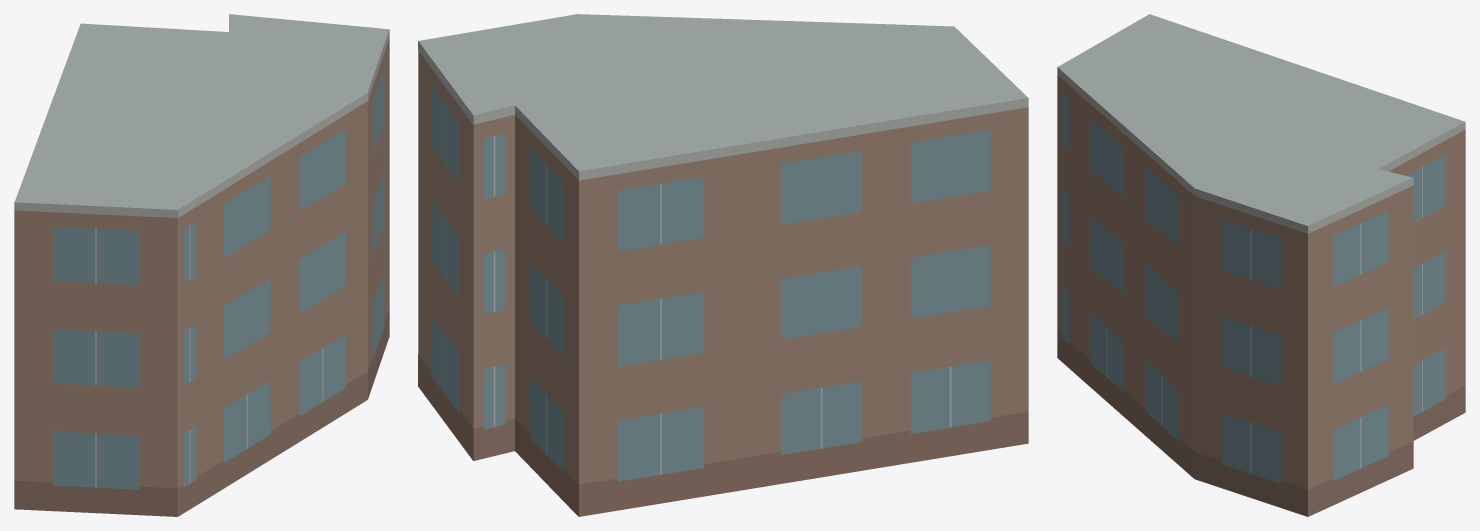
Rendered from survey-upis-33008627.glb.
The picture shows the model from 3 angles, left to right: view 1: azimuth 30°, elevation 25°; view 2: azimuth 150°, elevation 25°; view 3: azimuth 270°, elevation 25°; orthographic projection. The views are drawn at different scales.
Parts seen in each view (by area): view 1: survey-upis-33008627.tmp; view 2: survey-upis-33008627.tmp; view 3: survey-upis-33008627.tmp.
Boxes of the visible parts, <box> form: survey-upis-33008627.tmp: <box>14,14,389,516</box>; survey-upis-33008627.tmp: <box>418,14,1028,516</box>; survey-upis-33008627.tmp: <box>1057,14,1465,516</box>.
Bounding box in the file's own units: 14.32 × 9.15 × 11.65.
